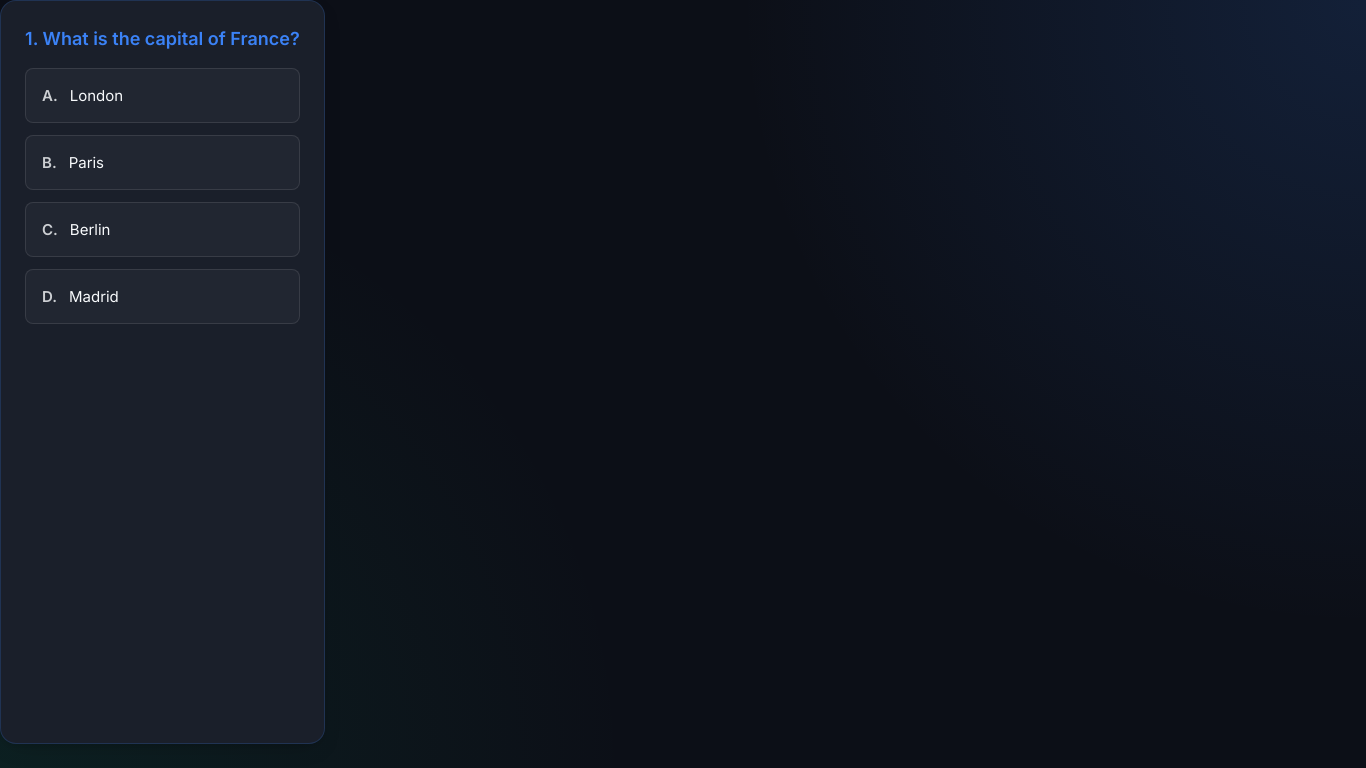
QuestionCard Component › shows fallback explanation when no explanation is provided
Step 1. Click the button "A. London" → (96,96), box x1=25 y1=68 x2=300 y2=123
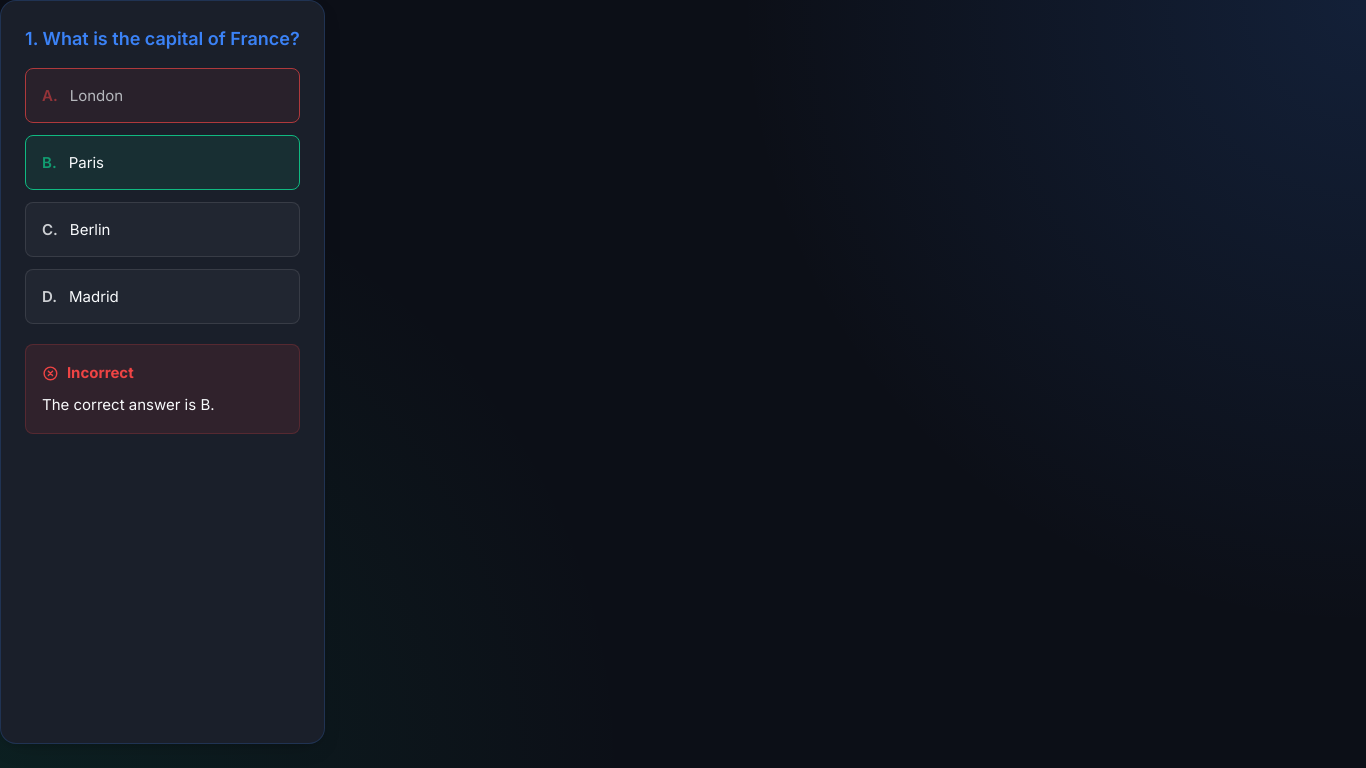
Expected: the text "The correct answer is B." is shown, x1=42 y1=395 x2=214 y2=414
